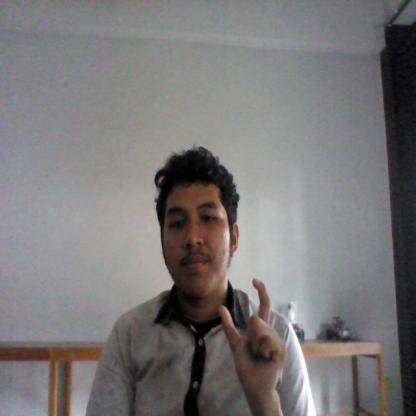U: (217, 278, 289, 396)
